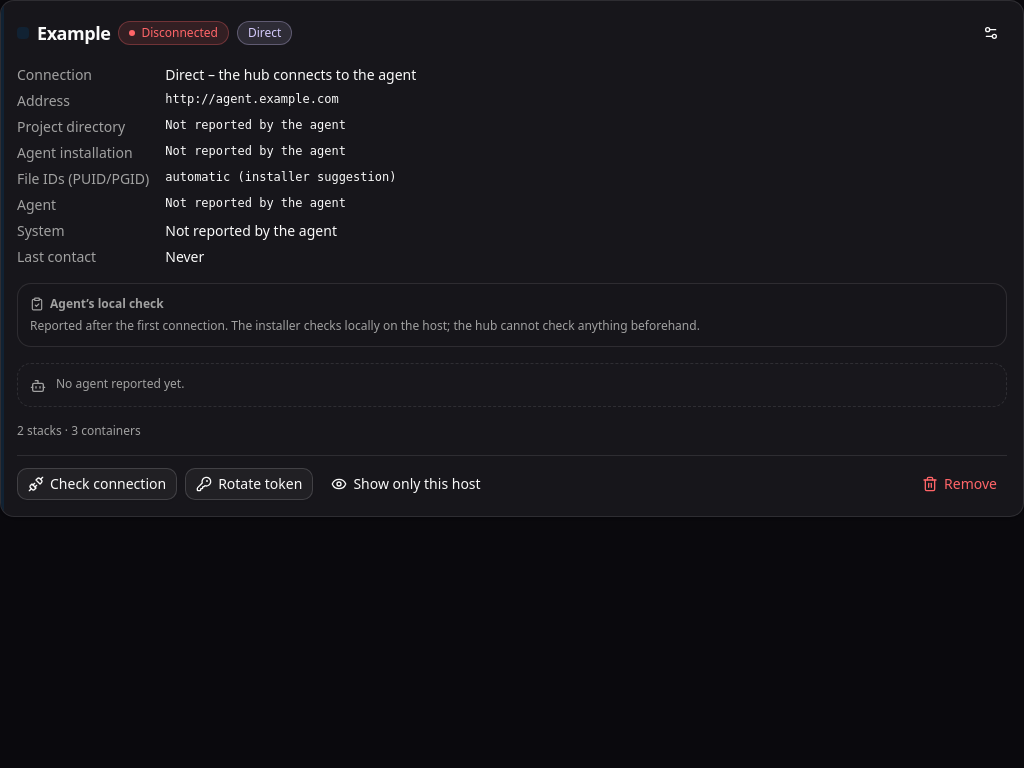
it: H6 shows honest workload counts for offline and preserves workloads warning
Click the button "Remove" at (960, 484), box [912,468,1007,500]
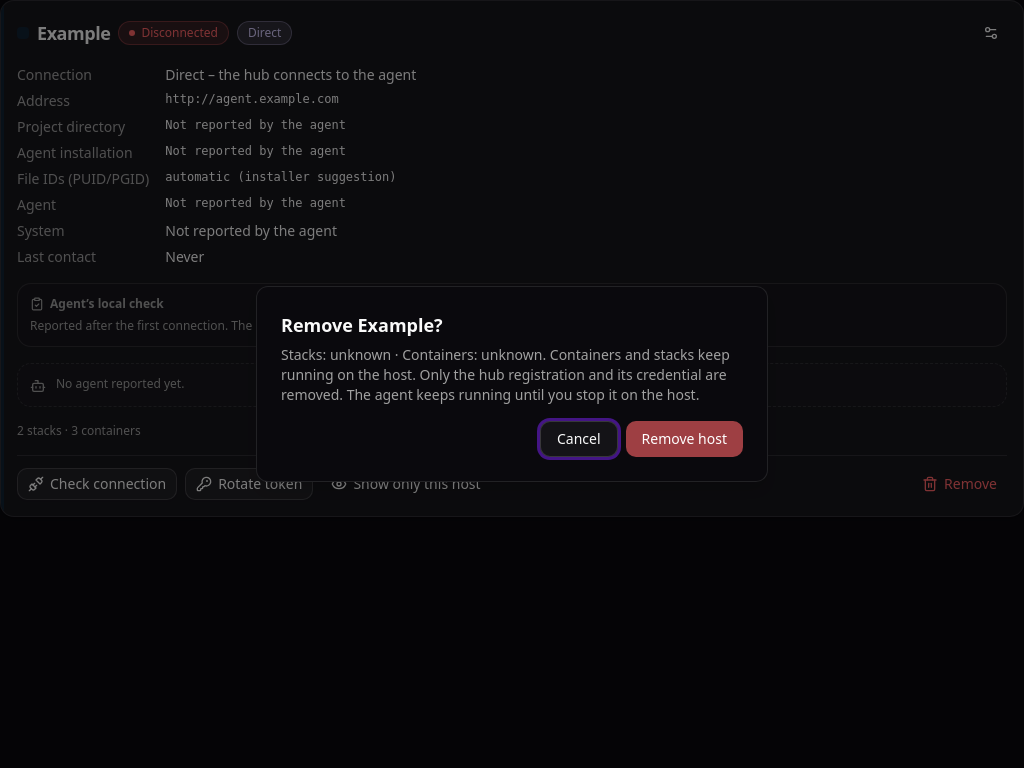
Result: the dialog shows "Stacks: unknown · Containers: unknown." at [281,345,730,404]
Result: the dialog shows "Containers and stacks keep running" at [281,345,730,404]
